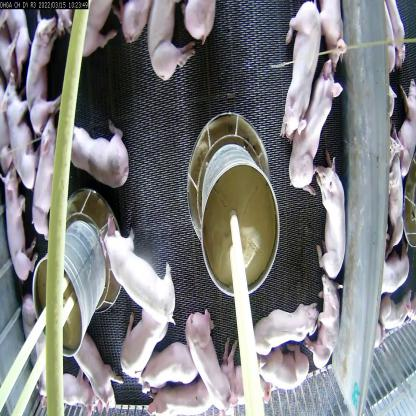Pig: (90, 192, 176, 329), (286, 50, 346, 204), (178, 270, 237, 412), (275, 0, 322, 142), (21, 0, 65, 134), (67, 111, 139, 191), (0, 148, 39, 290), (0, 59, 38, 199), (219, 320, 273, 415), (313, 154, 349, 282), (76, 324, 126, 416), (27, 111, 61, 244), (147, 0, 199, 84), (253, 294, 320, 353), (305, 265, 341, 374), (257, 338, 308, 399), (318, 0, 352, 73)
